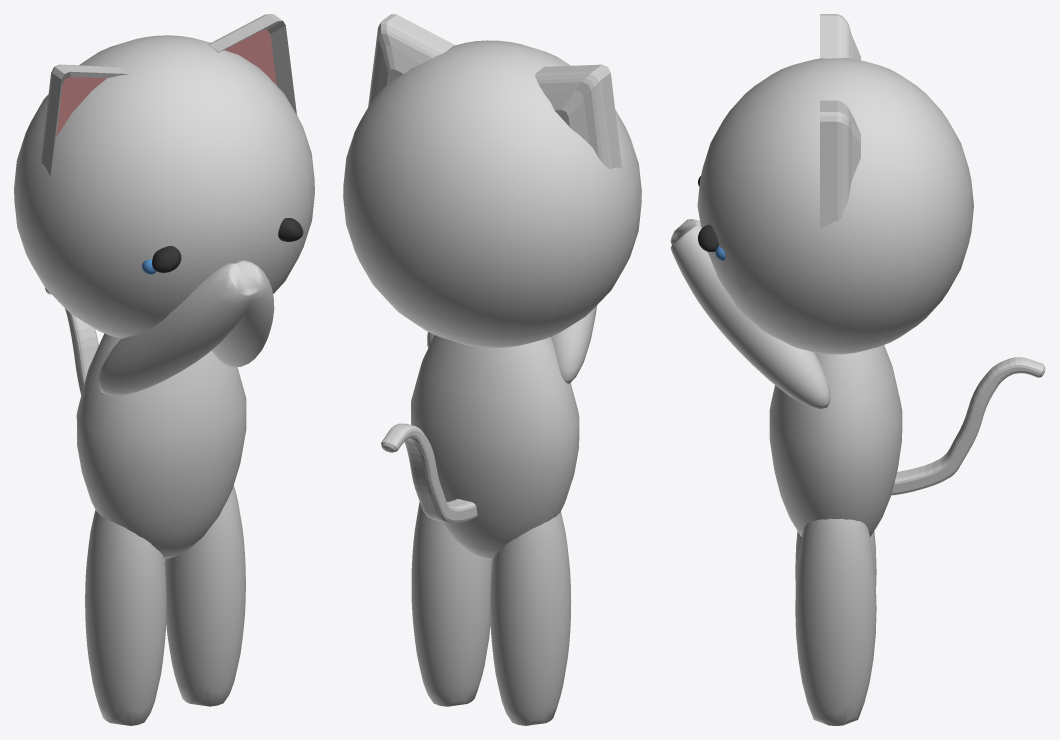
File: cat.glb
The picture shows the model from 3 angles, left to right: view 1: azimuth 30°, elevation 25°; view 2: azimuth 150°, elevation 25°; view 3: azimuth 270°, elevation 25°; orthographic projection. The views are drawn at different scales.
Parts seen in each view (by area): view 1: Sphere.007, Sphere, Sphere.003, Sphere.004, Sphere.001, Cube.001, Sphere.008, Cube, Cube.002, Sphere.005, Sphere.002; view 2: Sphere.007, Sphere, Sphere.003, Sphere.004, Cube, Cube.001, Cube.002, Sphere.001; view 3: Sphere.007, Sphere, Sphere.004, Sphere.008, Cube.001, Cube.002, Cube.
Boxes of the visible parts, left/top/right/bottom form: Sphere.007: left=14, top=35, right=314, bottom=338; Sphere: left=76, top=333, right=246, bottom=558; Sphere.003: left=85, top=510, right=166, bottom=725; Sphere.004: left=164, top=485, right=245, bottom=706; Sphere.001: left=98, top=263, right=249, bottom=395; Cube.001: left=208, top=14, right=296, bottom=114; Sphere.008: left=212, top=260, right=274, bottom=367; Cube: left=41, top=64, right=128, bottom=176; Cube.002: left=45, top=288, right=98, bottom=394; Sphere.005: left=152, top=246, right=181, bottom=272; Sphere.002: left=278, top=218, right=303, bottom=241; Sphere.007: left=343, top=40, right=641, bottom=347; Sphere: left=411, top=335, right=579, bottom=560; Sphere.003: left=490, top=511, right=571, bottom=725; Sphere.004: left=411, top=502, right=491, bottom=706; Cube: left=535, top=64, right=621, bottom=169; Cube.001: left=368, top=14, right=454, bottom=107; Cube.002: left=381, top=423, right=477, bottom=523; Sphere.001: left=551, top=306, right=596, bottom=383; Sphere.007: left=697, top=58, right=973, bottom=354; Sphere: left=769, top=345, right=902, bottom=536; Sphere.004: left=795, top=518, right=876, bottom=725; Sphere.008: left=670, top=225, right=830, bottom=409; Cube.001: left=820, top=100, right=860, bottom=229; Cube.002: left=891, top=357, right=1045, bottom=495; Cube: left=820, top=14, right=860, bottom=60.
Size of the model in its own units: 1.14 by 2.74 by 1.46.
